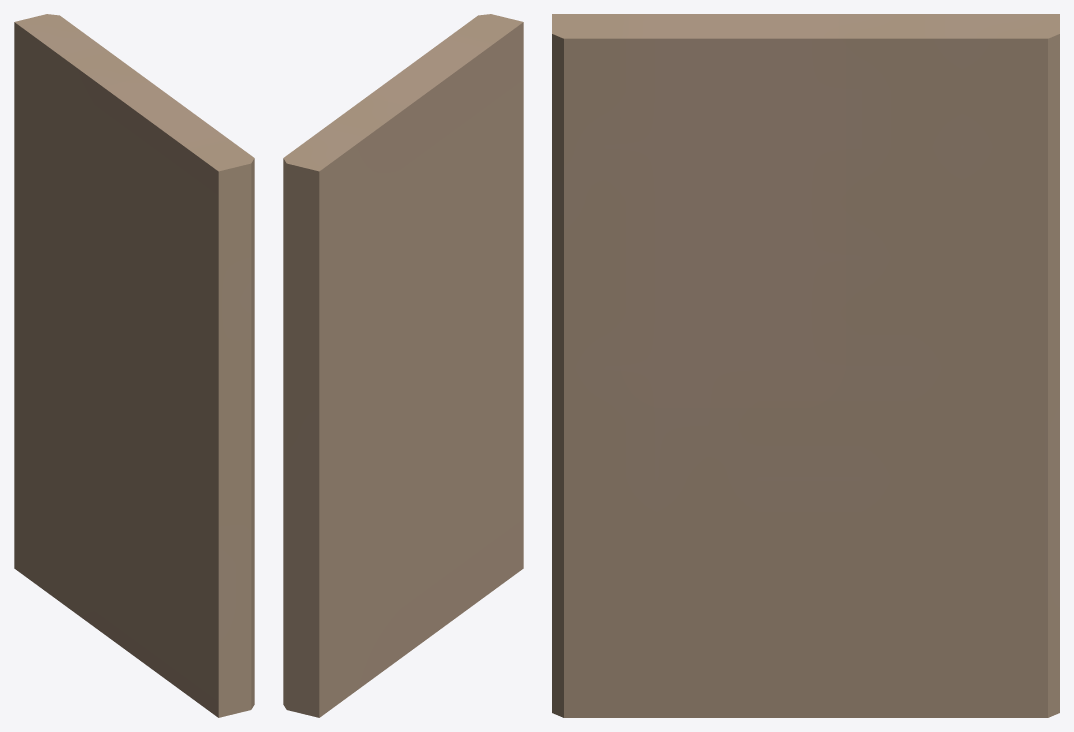
File: fireplaceWall.fbx
3 views of the same model, side by side, from view 1: azimuth 30°, elevation 25°; view 2: azimuth 150°, elevation 25°; view 3: azimuth 270°, elevation 25° (orthographic). The views are drawn at different scales.
Visible parts, largest first — view 1: fireplaceWall; view 2: fireplaceWall; view 3: fireplaceWall.
Boxes of the visible parts, box(x1,y1,x2,y2) form: fireplaceWall: box(14, 14, 254, 717); fireplaceWall: box(283, 14, 523, 717); fireplaceWall: box(552, 14, 1059, 717).
Size of the model in its own units: 132 by 1682 by 1140.
